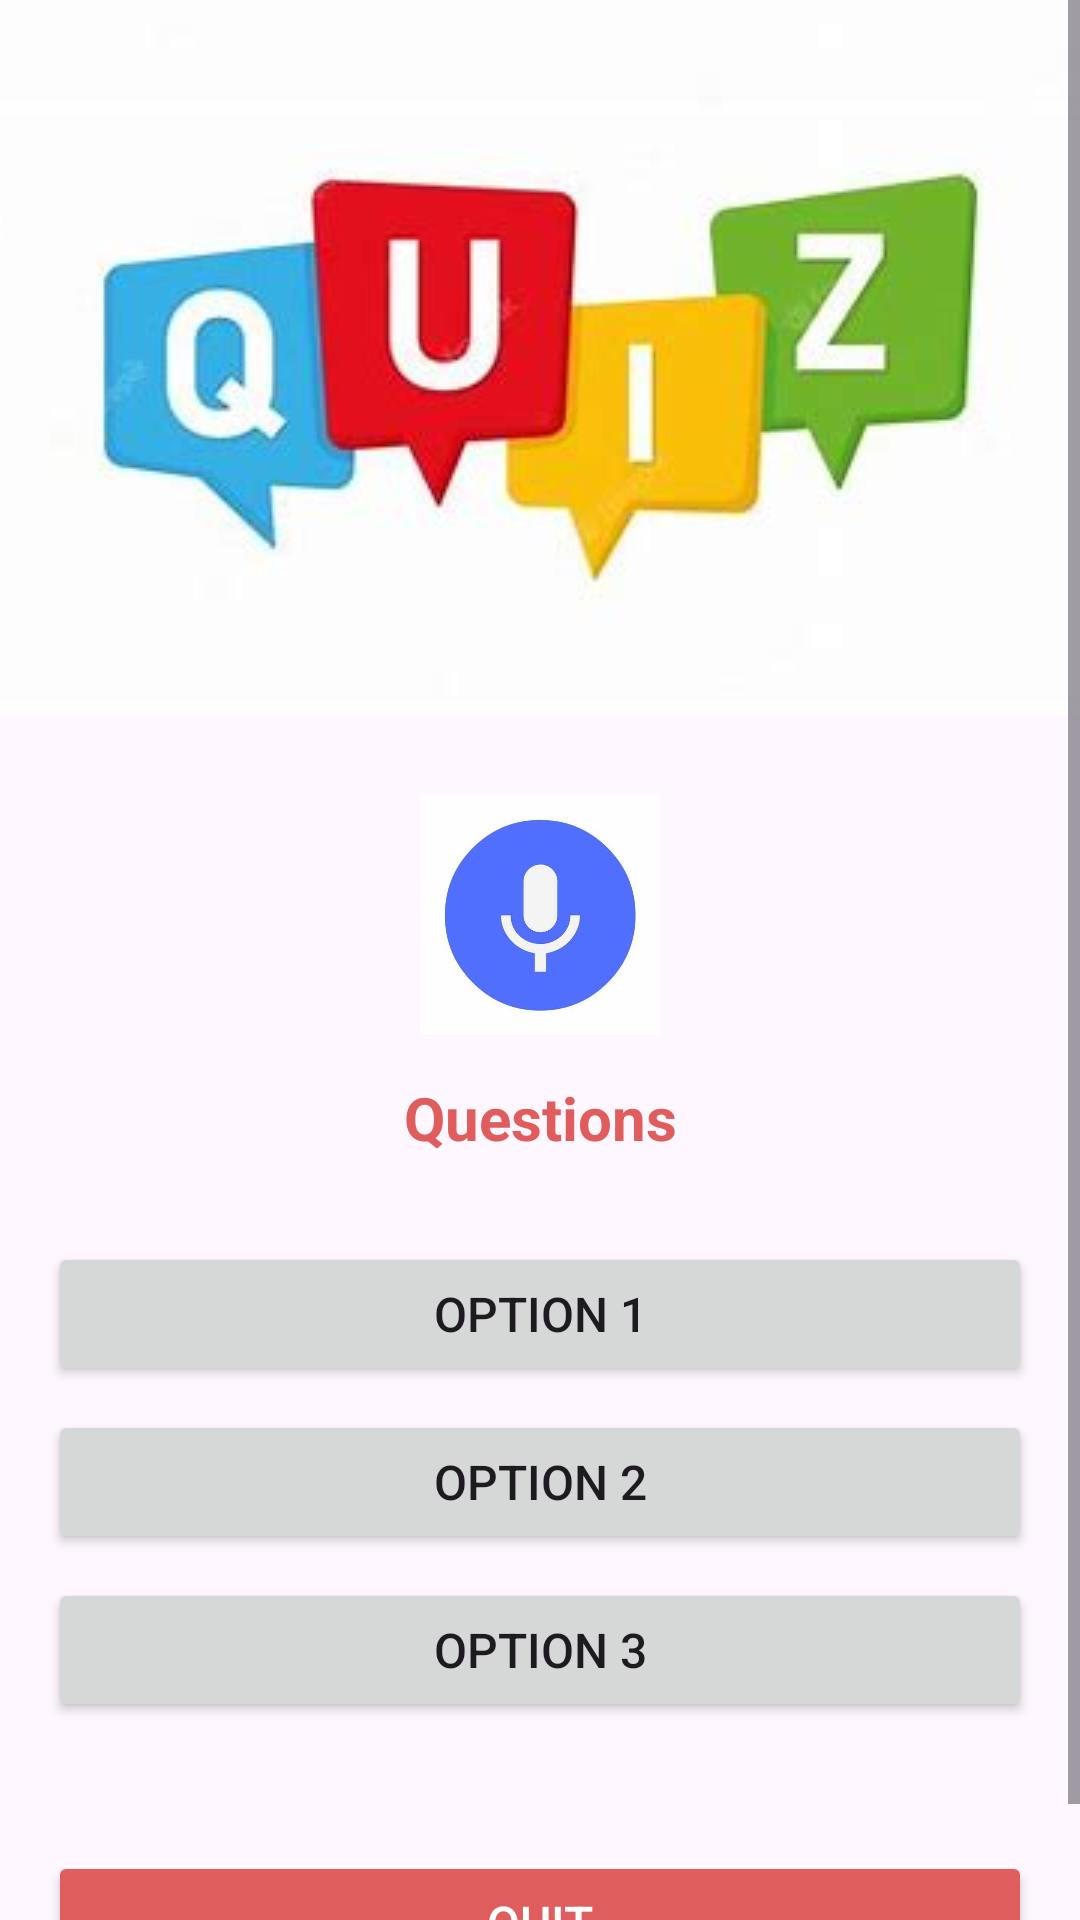

Point at icon controls on the screen. Image size 1080w x 1920h, points as [x,y].
Speak Answer: [540,915]
